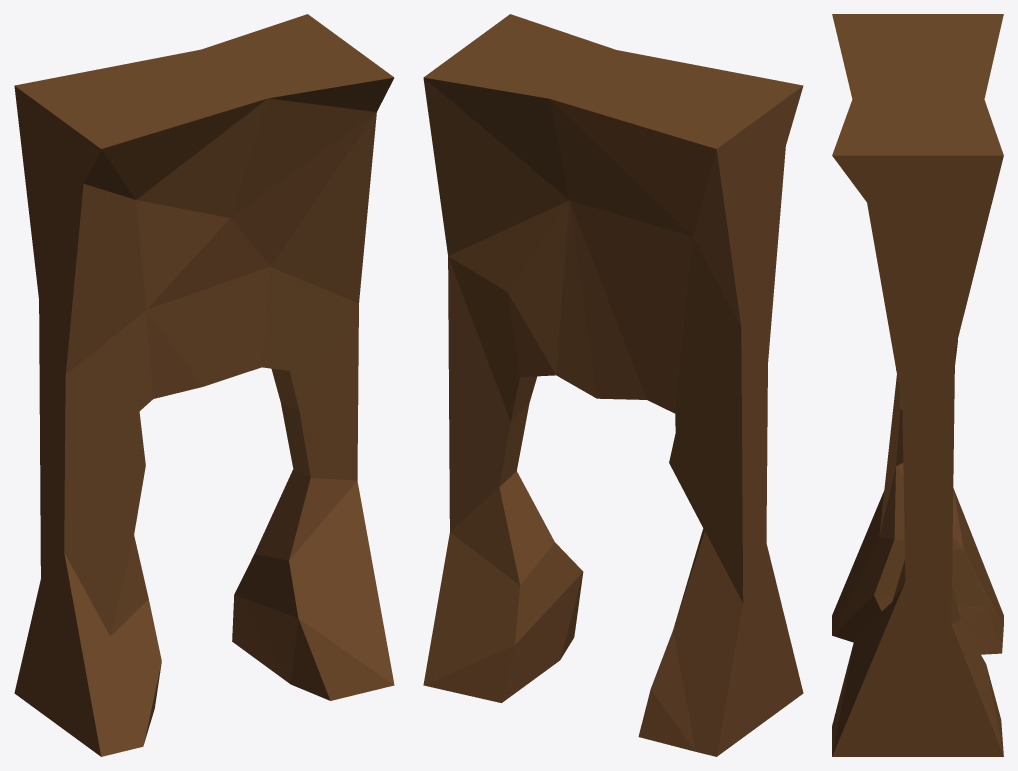
The model's file is CaveDoor.fbx.
The picture shows the model from 3 angles, left to right: view 1: azimuth 30°, elevation 25°; view 2: azimuth 150°, elevation 25°; view 3: azimuth 270°, elevation 25°; orthographic projection.
Visible parts, largest first — view 1: Cube.011; view 2: Cube.011; view 3: Cube.011.
Boxes of the visible parts, x1,y1,x2,y2 form: Cube.011: [14, 14, 394, 756]; Cube.011: [423, 14, 803, 756]; Cube.011: [832, 14, 1003, 756].
Size of the model in its own units: 199 by 395 by 102.
